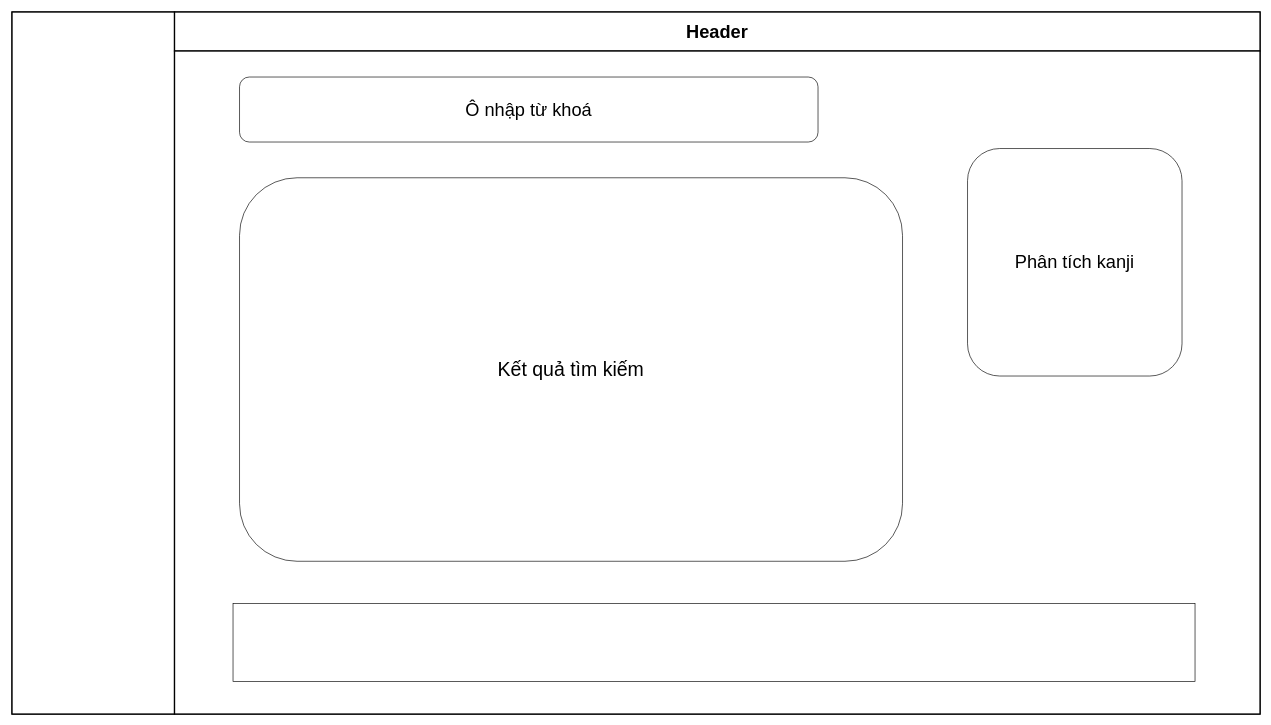
Image size: 1271x725. Some labels were removed from this diagram. Each missing label, with the centre of its shape:
"BÌnh luận" goes at point (713, 642).
"Sidebar" goes at point (93, 362).
